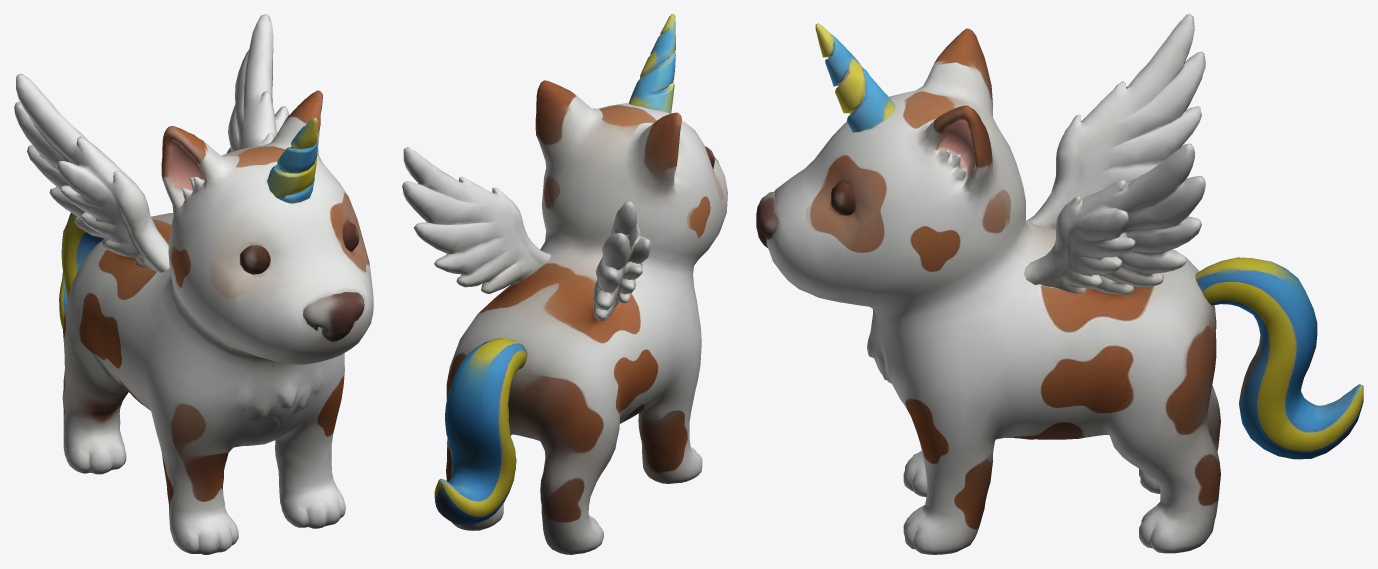
File: flou-flou.glb
3 renders of one model, left to right at view 1: azimuth 30°, elevation 25°; view 2: azimuth 150°, elevation 25°; view 3: azimuth 270°, elevation 25°, orthographic. The views are drawn at different scales.
Visible parts, largest first — view 1: tripo_node_506da77f-92f4-4fdc-95ac-44ce01b4662b; view 2: tripo_node_506da77f-92f4-4fdc-95ac-44ce01b4662b; view 3: tripo_node_506da77f-92f4-4fdc-95ac-44ce01b4662b.
Boxes of the visible parts, x1,y1,x2,y2 form: tripo_node_506da77f-92f4-4fdc-95ac-44ce01b4662b: [14, 14, 373, 554]; tripo_node_506da77f-92f4-4fdc-95ac-44ce01b4662b: [402, 14, 727, 554]; tripo_node_506da77f-92f4-4fdc-95ac-44ce01b4662b: [756, 14, 1363, 554].
Bounding box in the file's own units: 0.1177 × 0.2 × 0.2236.
1 material, 1 textured.
